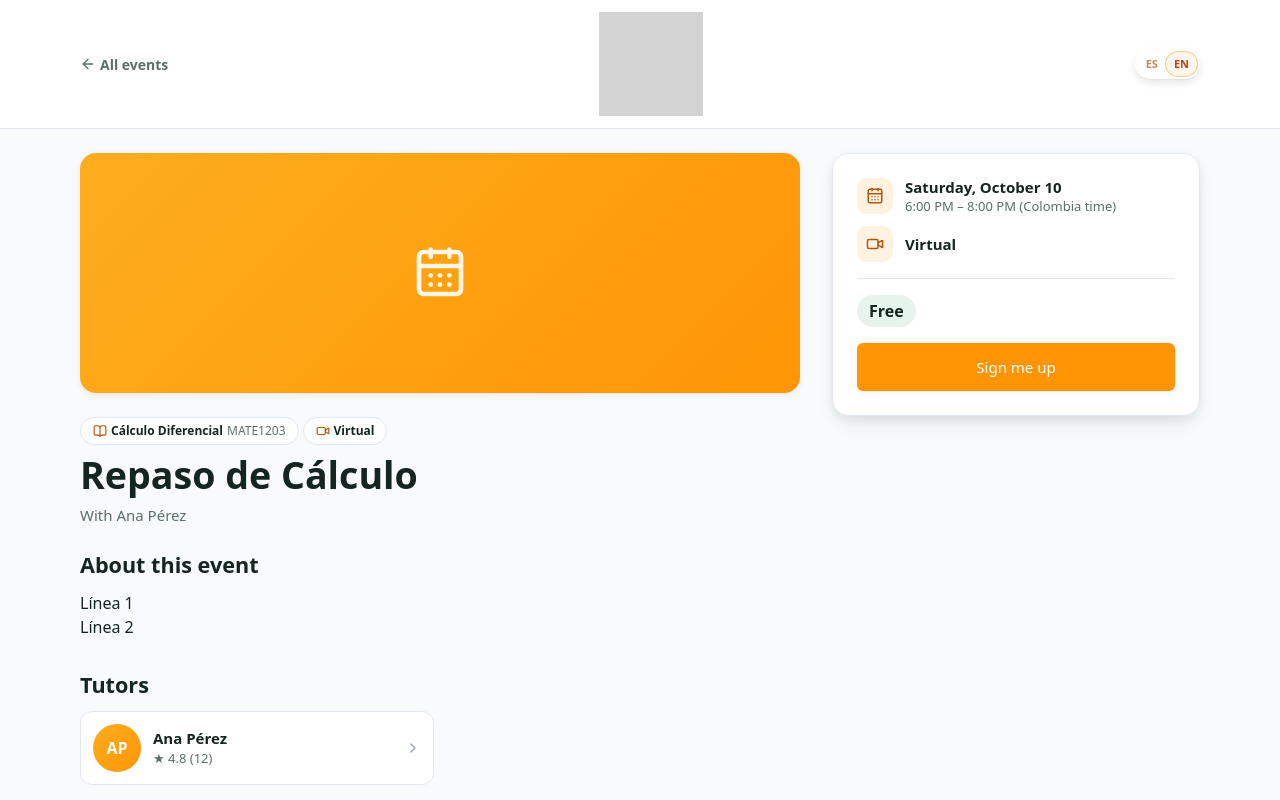
it: EventDetailView › maps EVENT_NOT_OPEN to its message
Click the button "Sign me up" at (1016, 367), box [857,343,1175,391]
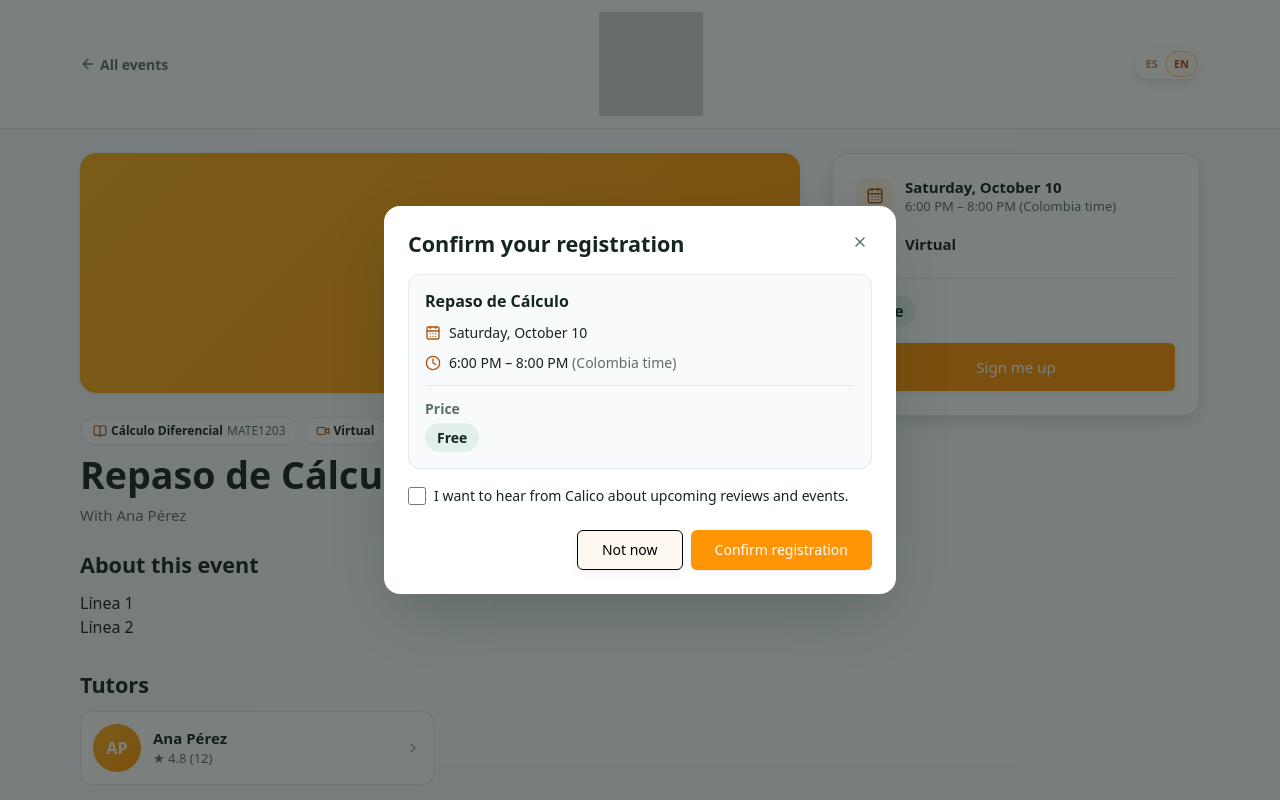
Click the button "Confirm registration" at (781, 550), box [691,530,872,570]
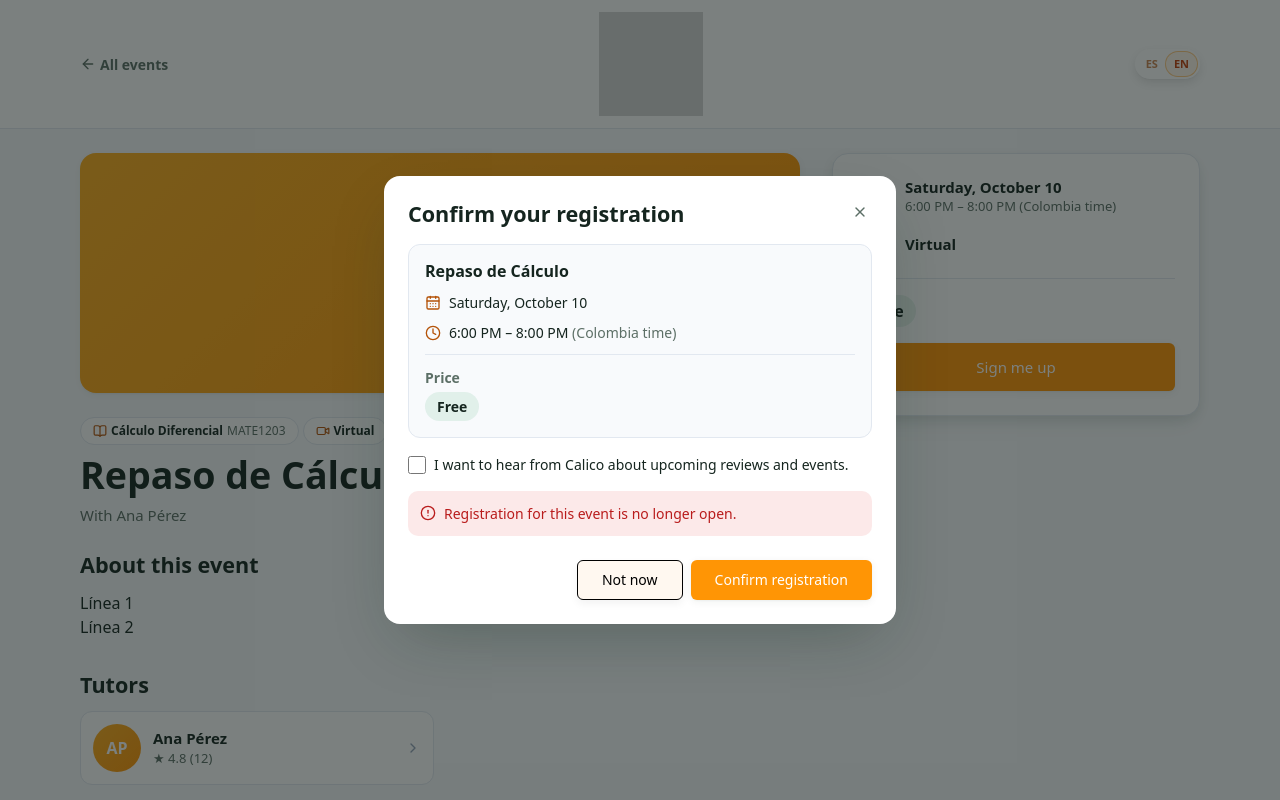
Result: the message reads "Registration for this event is no longer open." at [444,504,736,523]
